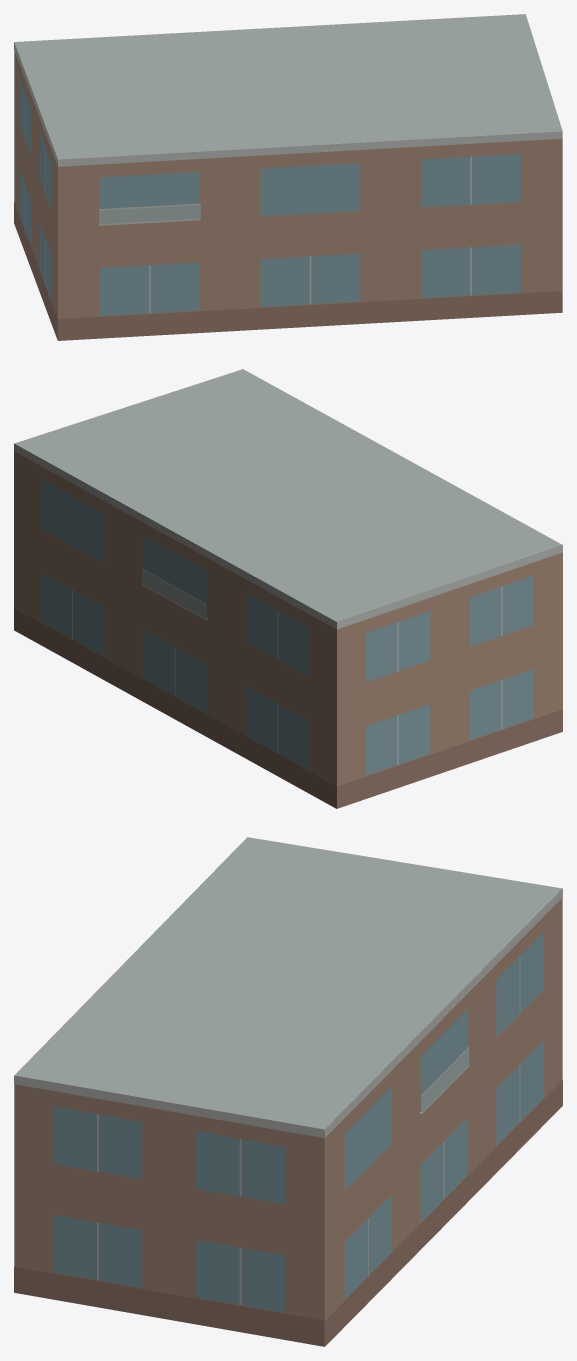
The model's file is survey-upis-32674753.glb.
3 renders of one model, top to bottom at view 1: azimuth 30°, elevation 25°; view 2: azimuth 150°, elevation 25°; view 3: azimuth 270°, elevation 25°, orthographic. The views are drawn at different scales.
Visible parts, largest first — view 1: survey-upis-32674753.tmp; view 2: survey-upis-32674753.tmp; view 3: survey-upis-32674753.tmp.
Part boxes in pixels (x1,y1,x2,y2): survey-upis-32674753.tmp: (14, 14, 562, 340); survey-upis-32674753.tmp: (14, 369, 562, 808); survey-upis-32674753.tmp: (14, 837, 562, 1346).
Size of the model in its own units: 17.63 by 6.1 by 13.97.
